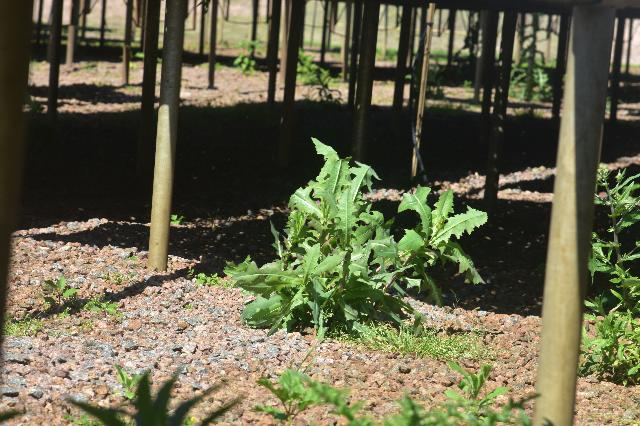MalezaMontesDelPlata: (273, 132, 403, 255), (222, 247, 390, 338), (378, 181, 495, 307), (595, 168, 640, 394), (357, 322, 498, 367), (437, 356, 510, 426), (247, 362, 325, 426), (34, 266, 92, 325), (105, 360, 151, 400)
